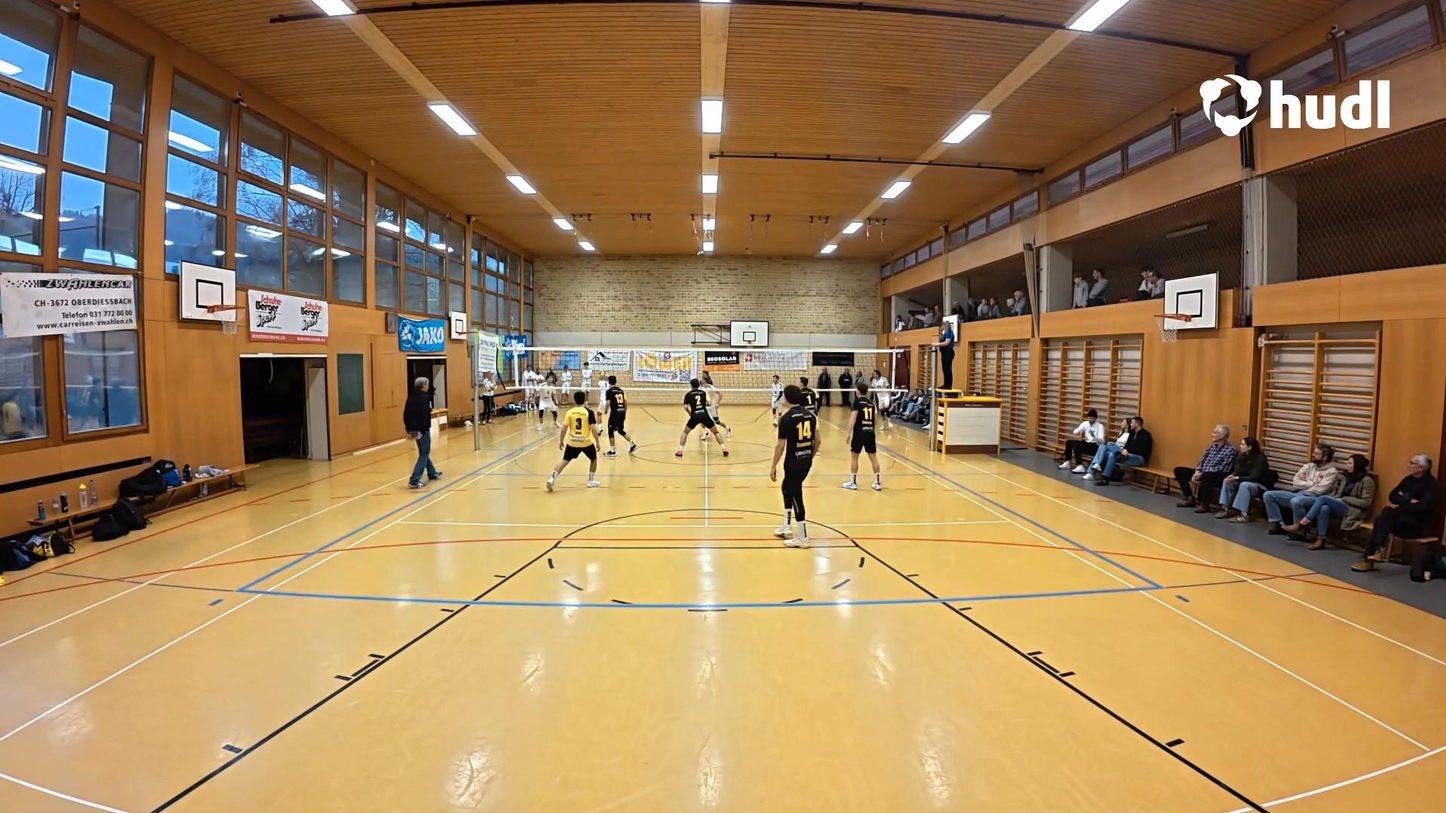Player: (773, 382, 819, 540), (546, 393, 602, 492), (673, 377, 730, 459), (846, 379, 883, 492), (602, 373, 635, 458), (700, 378, 738, 438), (867, 368, 894, 431), (532, 376, 560, 430), (795, 373, 825, 419), (591, 370, 612, 430), (769, 373, 783, 427)
